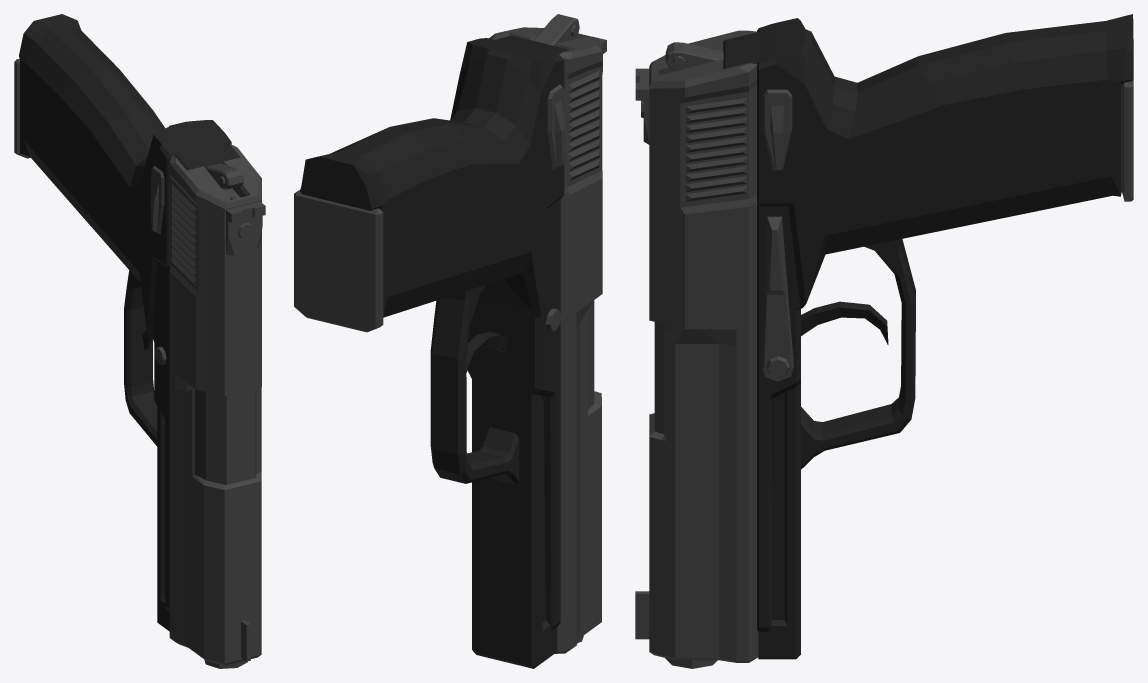
Rendered from Pistol.glb.
3 renders of one model, left to right at view 1: azimuth 30°, elevation 25°; view 2: azimuth 150°, elevation 25°; view 3: azimuth 270°, elevation 25°, orthographic. The views are drawn at different scales.
Parts seen in each view (by area): view 1: Pistol; view 2: Pistol; view 3: Pistol.
Boxes of the visible parts, x1,y1,x2,y2 form: Pistol: (14, 14, 265, 668); Pistol: (294, 14, 606, 668); Pistol: (635, 14, 1133, 668).
Size of the model in its own units: 1.01 by 6.23 by 4.44.
1 material, 1 textured.
